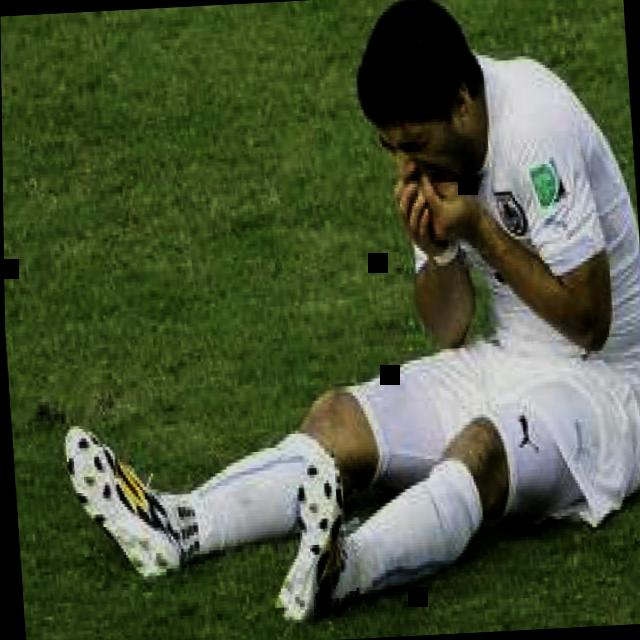Fall-Detected: (9, 0, 640, 636)
